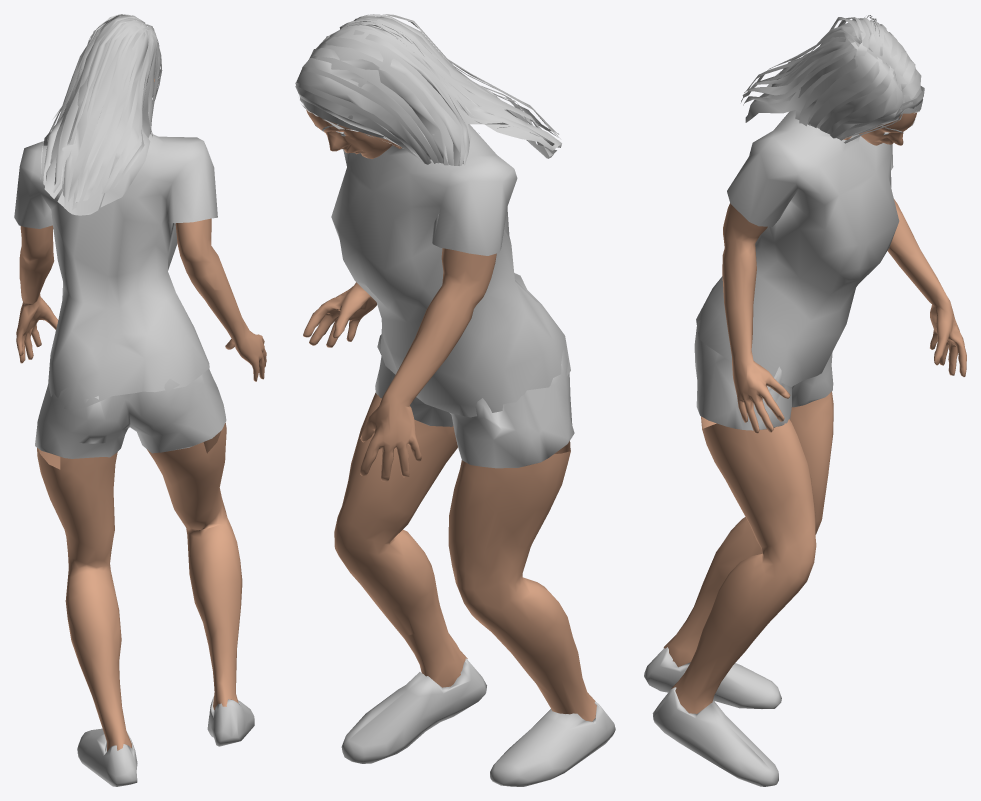
File: player2att_000013.obj
3 views of the same model, side by side, from view 1: azimuth 30°, elevation 25°; view 2: azimuth 150°, elevation 25°; view 3: azimuth 270°, elevation 25° (orthographic). The views are drawn at different scales.
Visible parts, largest first — view 1: player2:Body, player2:tshirt02, player2:fhair01, player2:short01, player2:shoes02; view 2: player2:Body, player2:tshirt02, player2:fhair01, player2:shoes02, player2:short01; view 3: player2:Body, player2:tshirt02, player2:fhair01, player2:shoes02, player2:short01.
Boxes of the visible parts, left/top/right/bottom form: player2:Body: left=16, top=79, right=266, bottom=751; player2:tshirt02: left=14, top=133, right=217, bottom=409; player2:fhair01: left=40, top=14, right=162, bottom=215; player2:short01: left=35, top=369, right=226, bottom=458; player2:shoes02: left=77, top=696, right=254, bottom=786; player2:Body: left=303, top=109, right=596, bottom=721; player2:tshirt02: left=331, top=124, right=570, bottom=417; player2:fhair01: left=295, top=14, right=561, bottom=165; player2:shoes02: left=341, top=658, right=615, bottom=786; player2:short01: left=375, top=335, right=574, bottom=468; player2:Body: left=663, top=112, right=966, bottom=713; player2:tshirt02: left=696, top=110, right=899, bottom=386; player2:fhair01: left=741, top=15, right=924, bottom=143; player2:shoes02: left=644, top=647, right=781, bottom=786; player2:short01: left=694, top=320, right=833, bottom=430.
Size of the model in its own units: 5.4 by 15.91 by 6.35.
